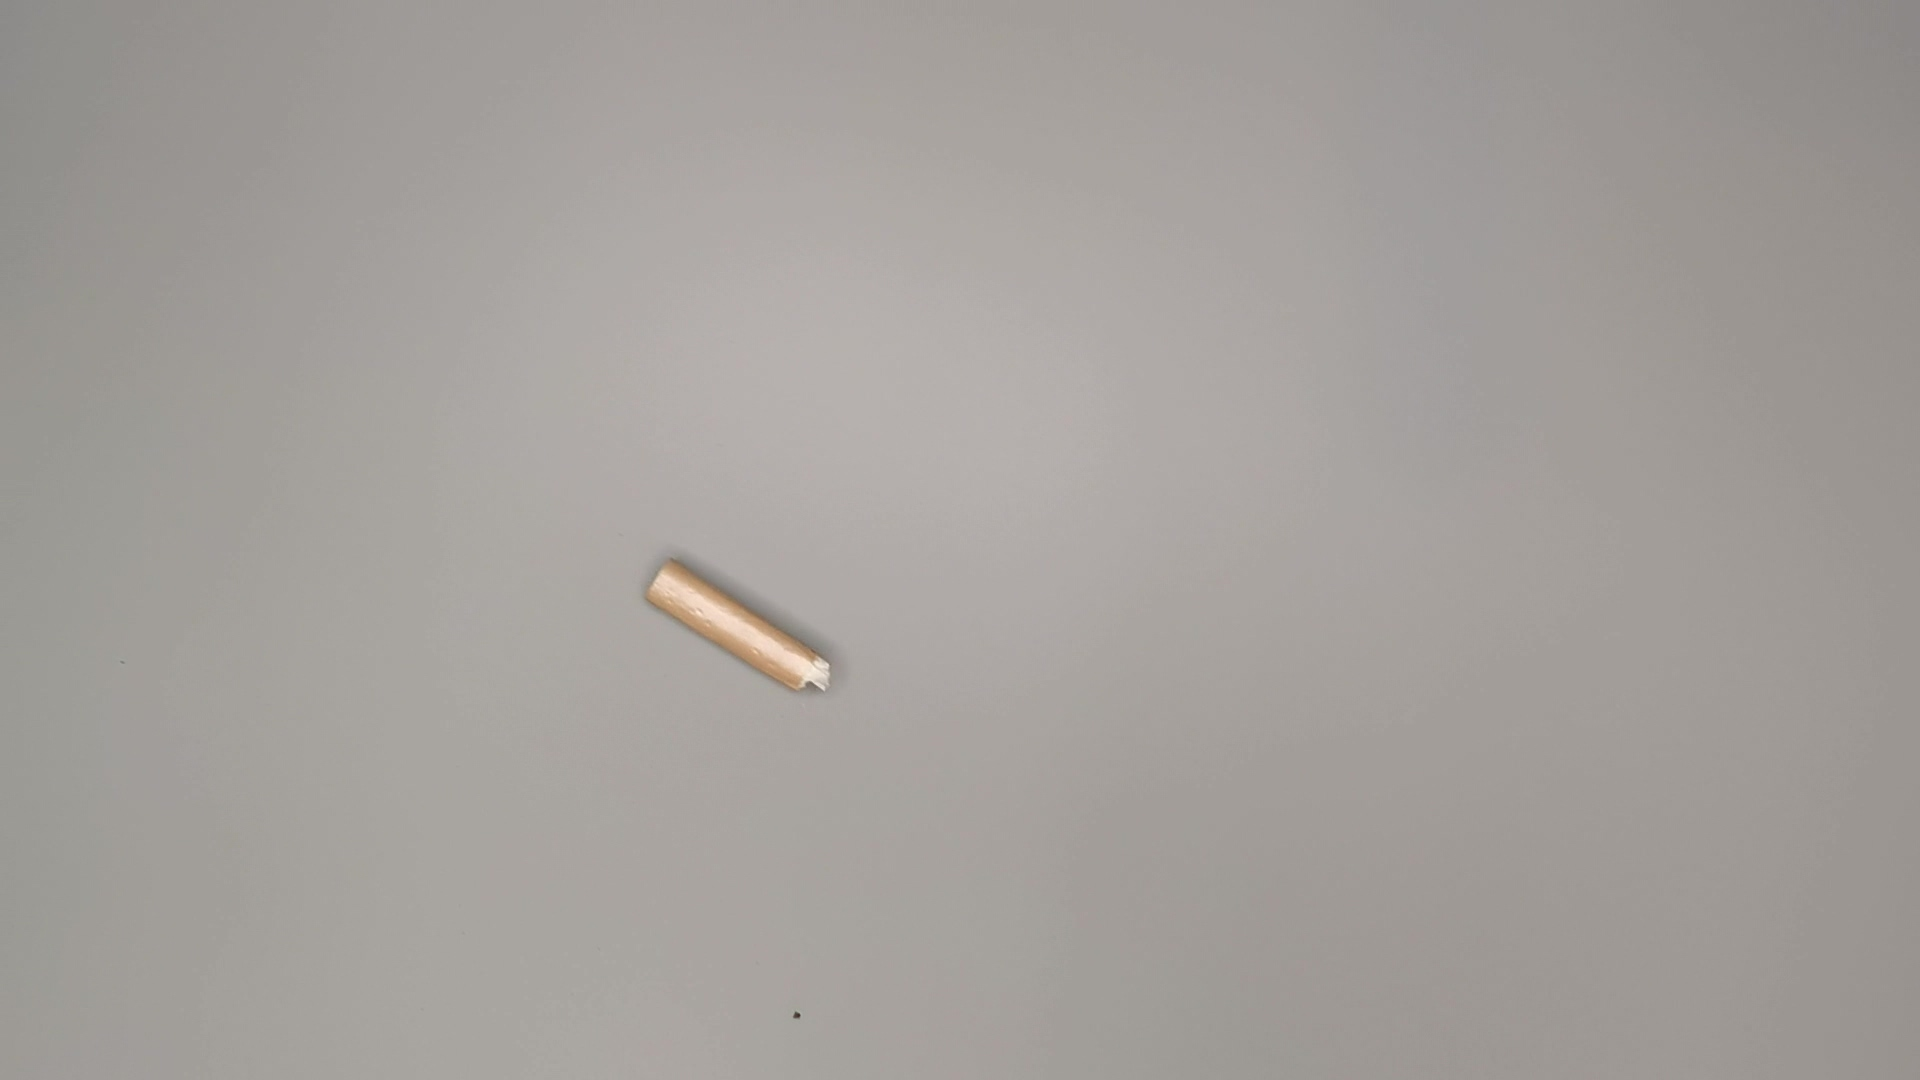cigarette: (644, 560, 844, 709)
